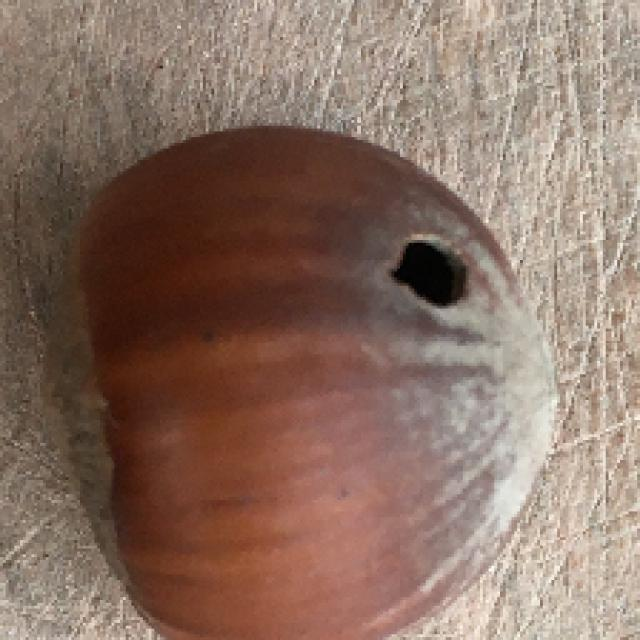damagedHazelnut: (37, 111, 563, 640)
